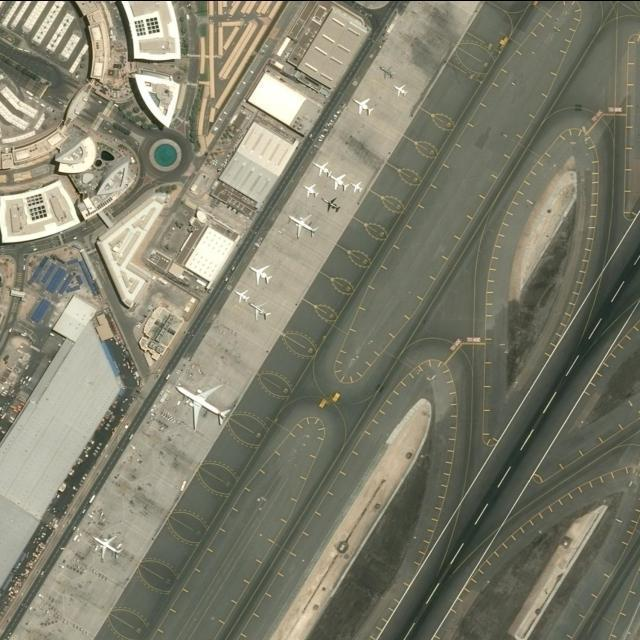Aircraft: (173, 382, 230, 430), (91, 534, 124, 560), (286, 212, 318, 237), (247, 263, 273, 283), (328, 170, 350, 192), (352, 96, 374, 115), (250, 301, 270, 321), (232, 288, 250, 306), (312, 161, 331, 177), (301, 183, 319, 199), (320, 198, 340, 212), (379, 65, 395, 79), (395, 83, 408, 97), (351, 181, 364, 193)
